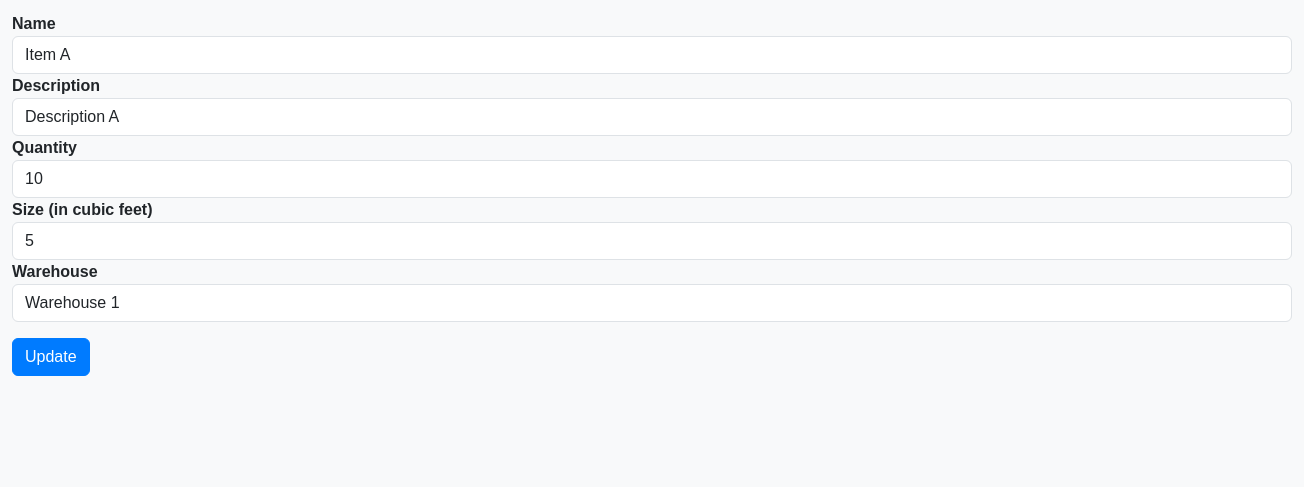
Test case: ItemForm › should display validation errors
Changing quantity and size to 0, hitting the button to attempt to update the item
Replace the text in the number field labelled "Quantity" with "0". click: (652, 179)
box: [12, 160, 1292, 198]
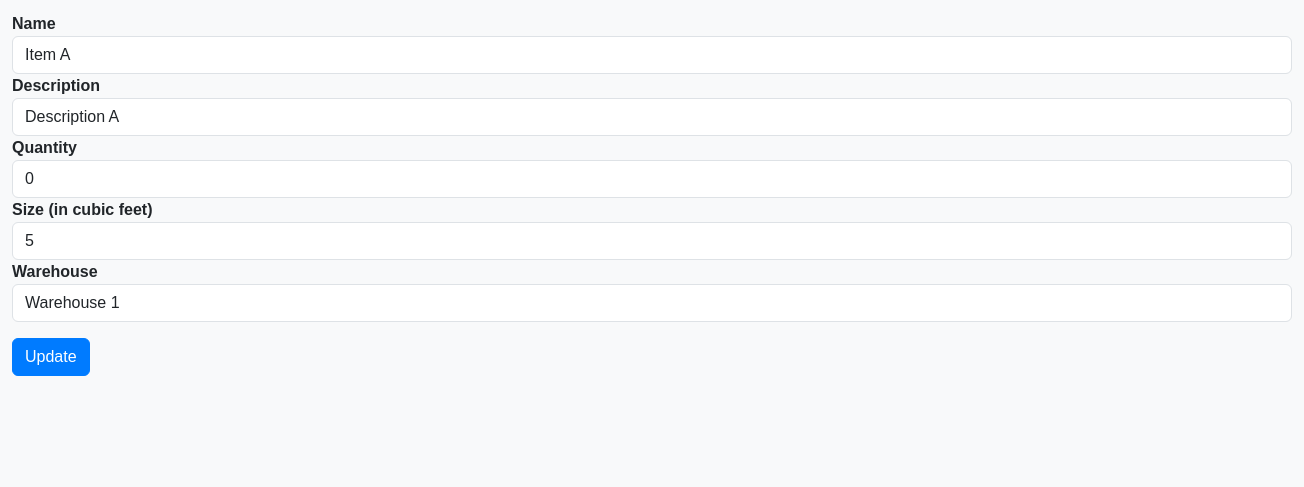
Replace the text in the number field labelled "Size (in cubic feet)" with "0". click: (652, 241)
box: [12, 222, 1292, 260]
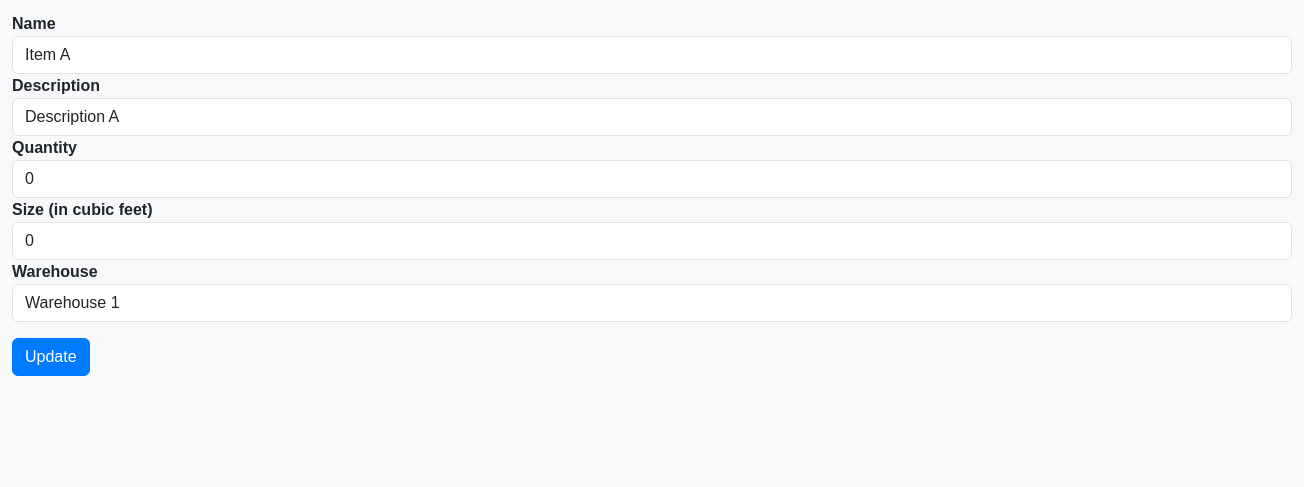
Submit the form from the button "Update", box [12, 338, 90, 376]
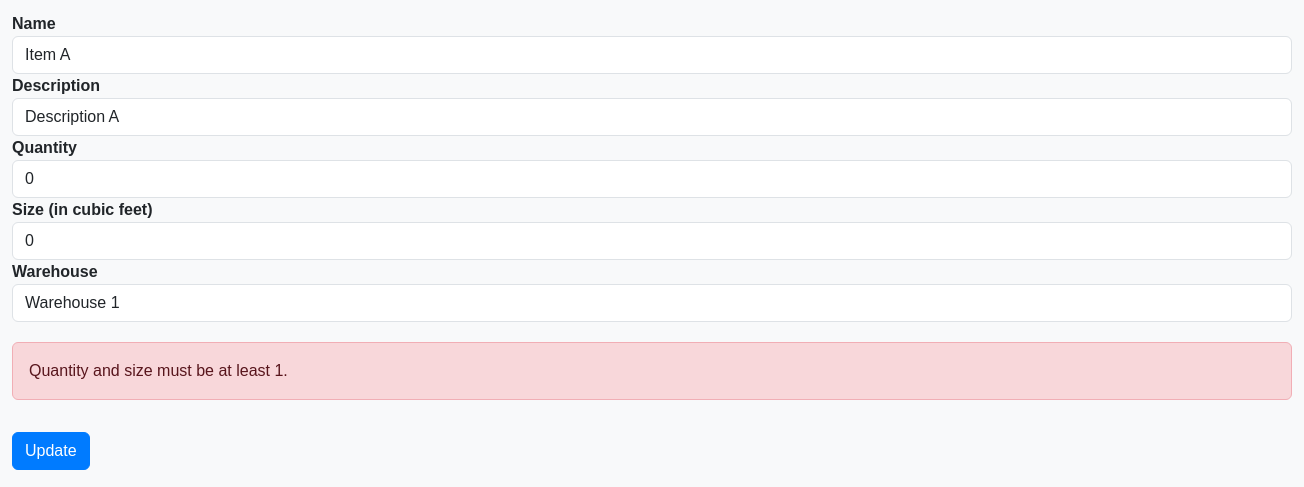
Check: the text "Quantity and size must be at least 1." is shown, box [12, 342, 1292, 400]
